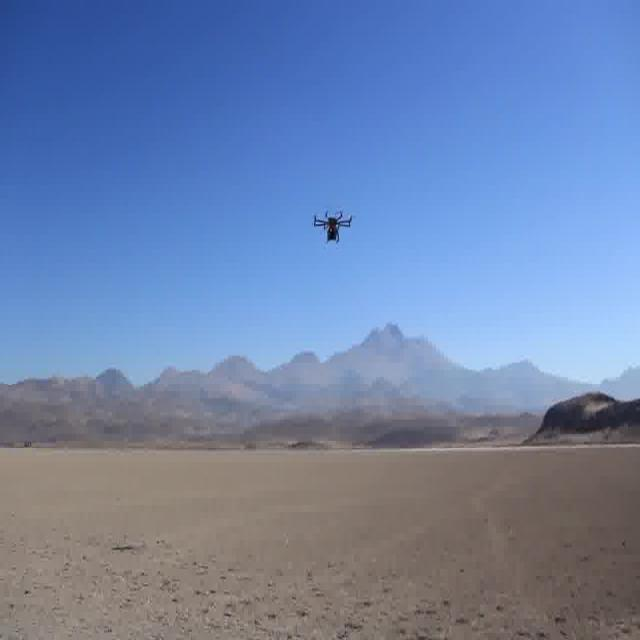drone: (312, 212, 356, 242)
